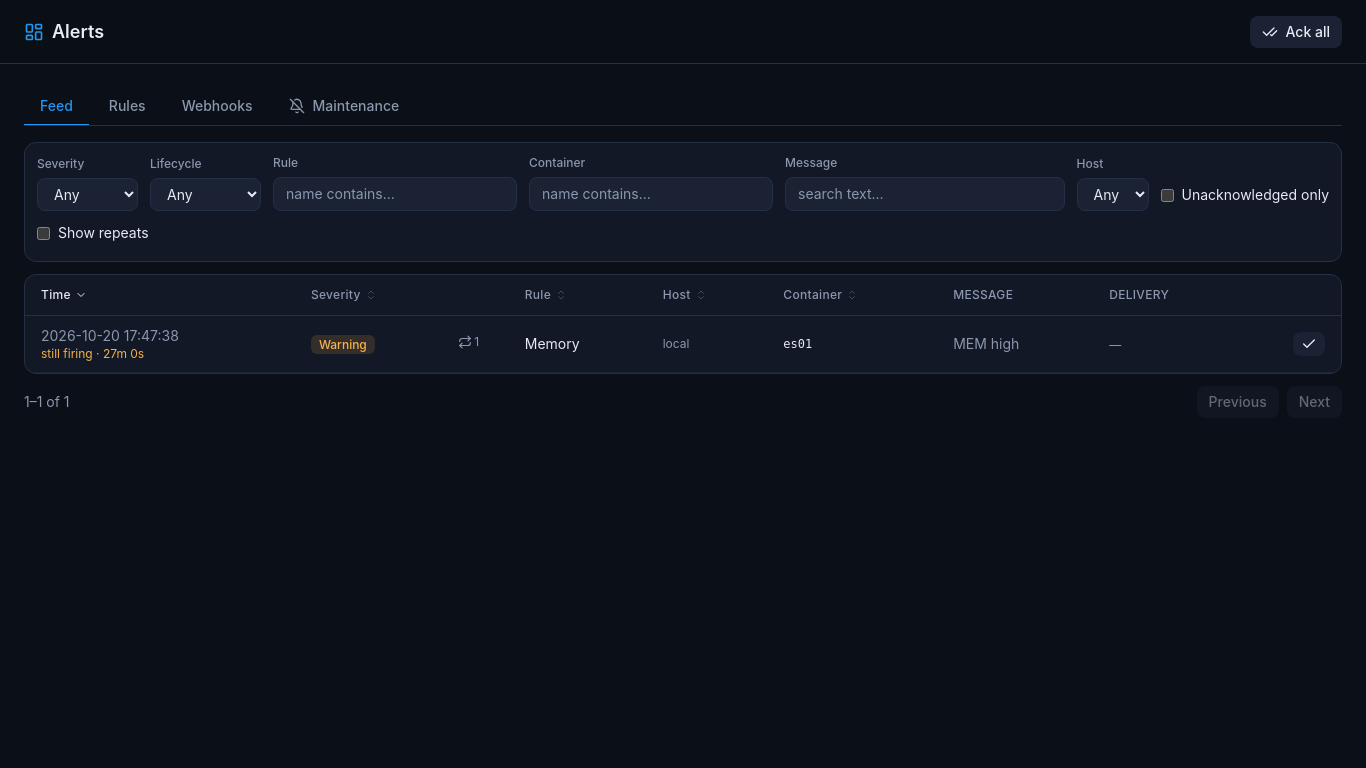
Alerts feed: condition summary on the opening row › repeats the summary in the detail view
Click the row that starts with "still firing ·" at {"x": 683, "y": 344}, box [25,316,1341,372]
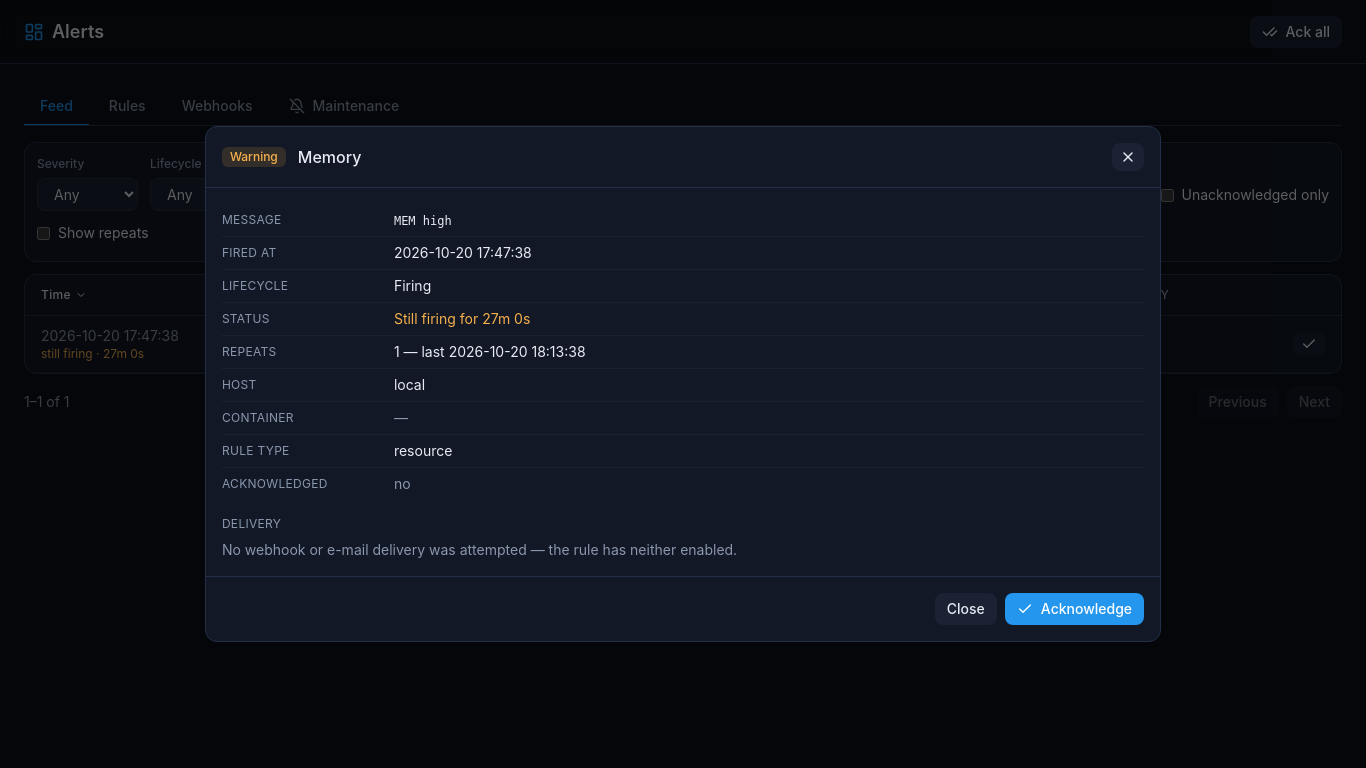
Now the text "Still firing for 27m" is shown, box [394,310,530,327]
Now the text "Repeats 1 — last 2026-10-20 18:13:38" is shown, box [222,336,1144,369]
